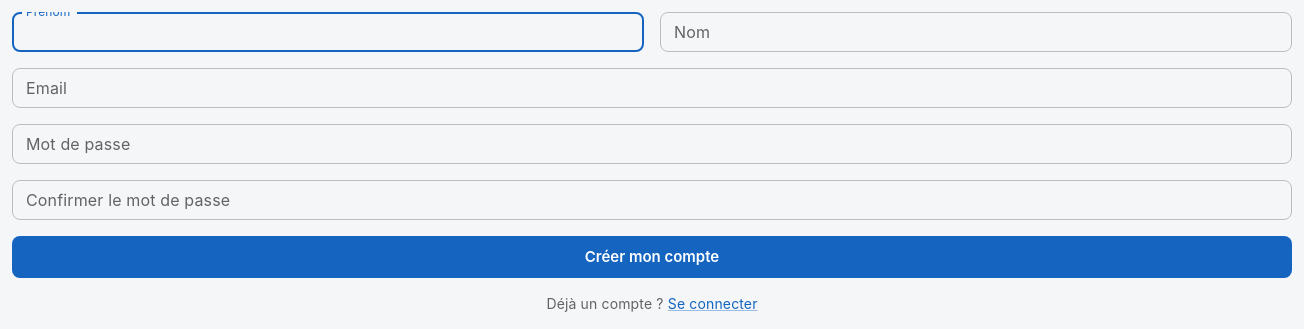
it: RegisterForm › registers with the confirmPassword field stripped, then shows the confirmation screen
The width and height of the screenshot is (1304, 329).
Step 1. Type "Alex" into the field labelled "Prénom" → (328, 32), box [12,12,644,52]
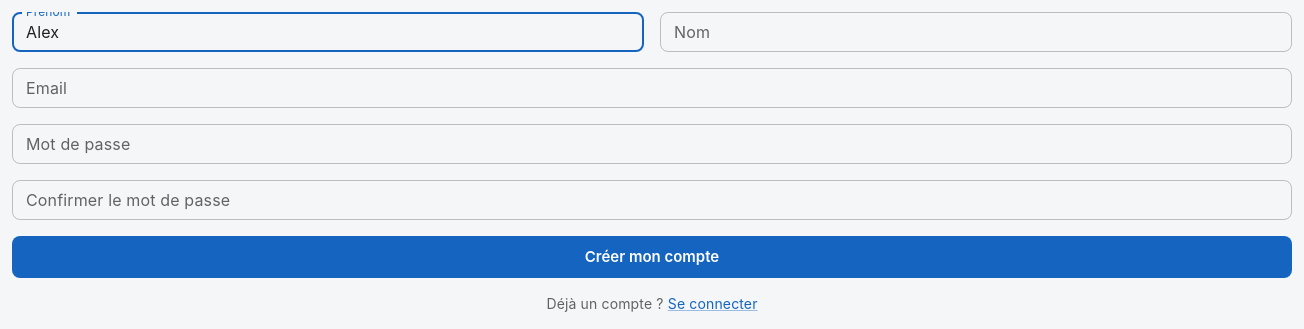
Step 2. Type "Martin" into the field labelled "Nom" → (976, 32), box [660,12,1292,52]
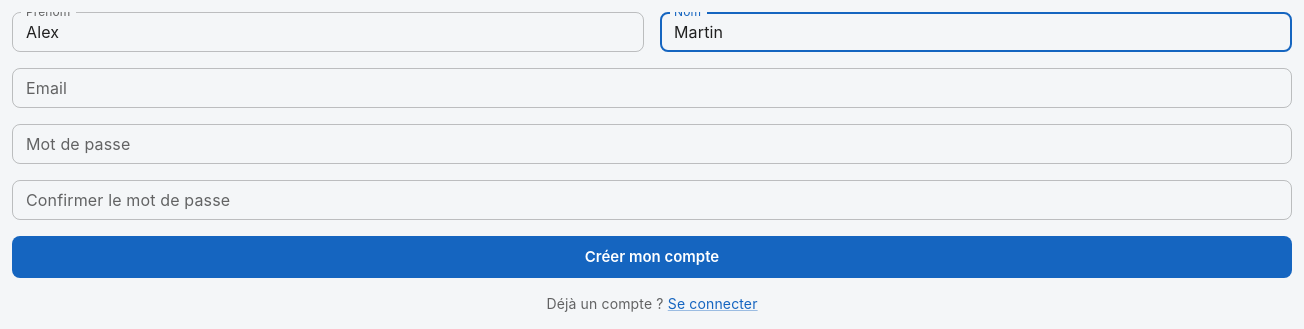
Step 3. Type "alex@iam.ma" into the field labelled "Email" → (652, 88), box [12,68,1292,108]
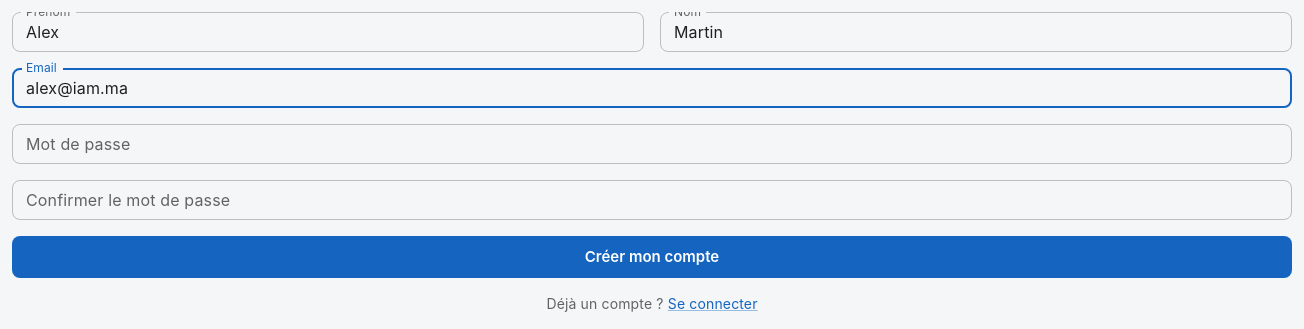
Step 4. Type "ValidPassword123" into the password field labelled "Mot de passe" → (652, 144), box [12,124,1292,164]
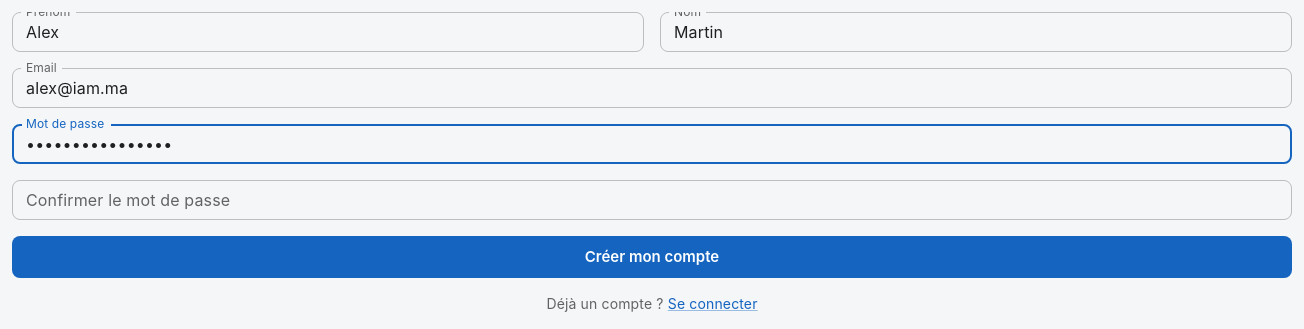
Step 5. Type "ValidPassword123" into the password field labelled "Confirmer le mot de passe" → (652, 200), box [12,180,1292,220]
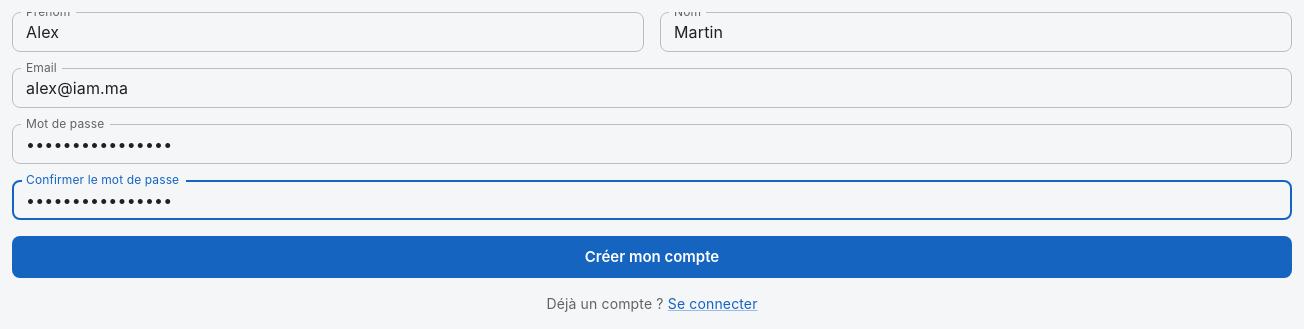
Step 6. Click the button "Créer mon compte" → (652, 257), box [12,236,1292,278]
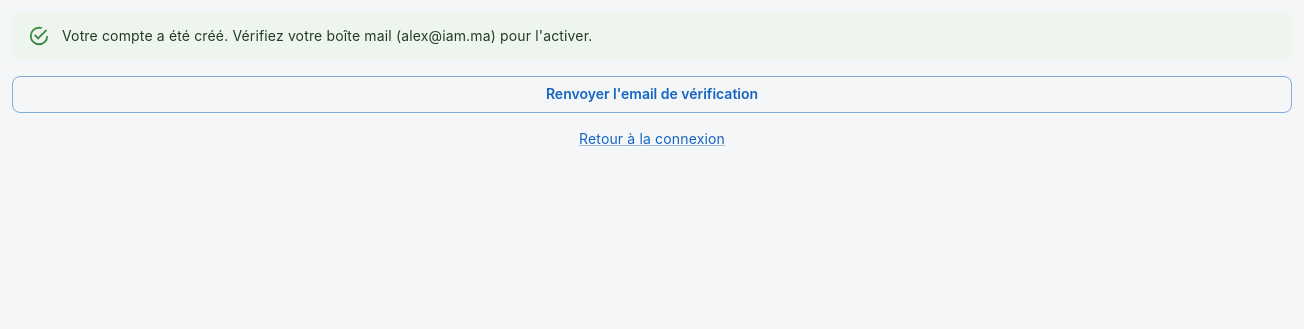
Expected: the text "Votre compte a été créé" is shown, [62,27,401,44]
